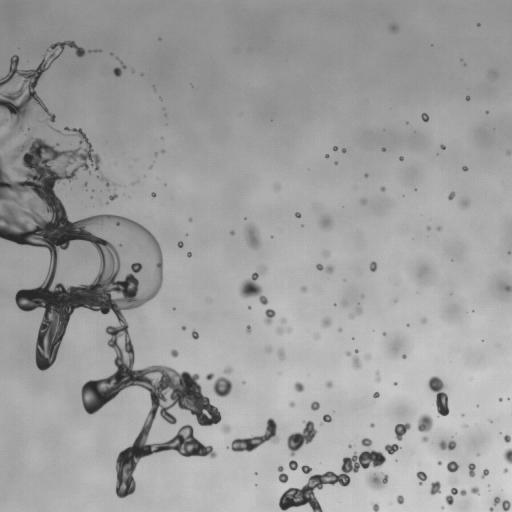droplet: (0, 53, 58, 140), (239, 265, 267, 305), (244, 224, 261, 248), (213, 377, 232, 397), (445, 487, 466, 505), (417, 414, 433, 433), (394, 423, 410, 440), (494, 496, 511, 511), (113, 58, 125, 76), (277, 466, 288, 483), (439, 440, 456, 450), (319, 216, 332, 229), (384, 444, 400, 454), (416, 471, 427, 485), (265, 309, 275, 324), (446, 461, 459, 472), (430, 481, 440, 495), (352, 355, 361, 369), (294, 382, 304, 392), (301, 465, 312, 474), (468, 463, 475, 477), (460, 198, 469, 208), (322, 317, 331, 327), (289, 460, 298, 470), (310, 401, 319, 410), (369, 261, 377, 271), (389, 24, 398, 32), (222, 424, 230, 433), (481, 469, 489, 478), (397, 494, 404, 504), (278, 348, 284, 359), (489, 71, 497, 79), (323, 414, 331, 422), (471, 486, 479, 494), (421, 113, 428, 122), (191, 330, 198, 339), (372, 502, 379, 511), (171, 349, 178, 357), (206, 373, 214, 380), (503, 435, 511, 442), (448, 192, 455, 199), (421, 435, 428, 442), (109, 194, 117, 200), (277, 327, 284, 333), (224, 367, 231, 373), (325, 381, 332, 387), (246, 325, 251, 333), (274, 184, 280, 190), (266, 346, 272, 352), (289, 401, 295, 407), (295, 212, 301, 217), (178, 241, 183, 247), (323, 251, 329, 256), (505, 286, 511, 291), (373, 392, 379, 397), (462, 166, 467, 171), (380, 186, 385, 191), (151, 192, 156, 197), (301, 286, 306, 291), (281, 318, 286, 323), (421, 318, 426, 323), (286, 327, 291, 332), (361, 199, 365, 204), (187, 252, 191, 257), (346, 351, 350, 356), (366, 354, 370, 359), (437, 461, 442, 465), (441, 145, 445, 149), (333, 146, 337, 150), (342, 148, 346, 152), (325, 154, 329, 158), (399, 156, 403, 160), (230, 230, 234, 234), (370, 423, 374, 427), (489, 507, 493, 511), (466, 96, 469, 100), (437, 226, 440, 230), (182, 326, 185, 330), (354, 350, 358, 353), (402, 355, 406, 358), (503, 469, 507, 472), (382, 148, 385, 151), (149, 165, 152, 168), (364, 173, 367, 176), (499, 398, 502, 401), (161, 150, 164, 152), (507, 151, 509, 154), (335, 161, 337, 164), (427, 227, 430, 229), (339, 328, 341, 331), (383, 332, 385, 335), (394, 382, 396, 385), (477, 24, 479, 26), (486, 111, 488, 113), (154, 153, 156, 155), (189, 218, 191, 220), (316, 335, 318, 337), (490, 420, 492, 422), (454, 479, 456, 481)
ligament: (0, 128, 221, 498), (278, 438, 388, 511), (227, 418, 279, 451), (287, 420, 317, 456), (428, 376, 449, 415), (50, 41, 85, 57), (316, 264, 333, 273), (349, 307, 362, 318), (97, 174, 109, 185), (503, 448, 511, 464), (375, 371, 380, 381), (90, 49, 99, 52), (55, 129, 60, 133)
